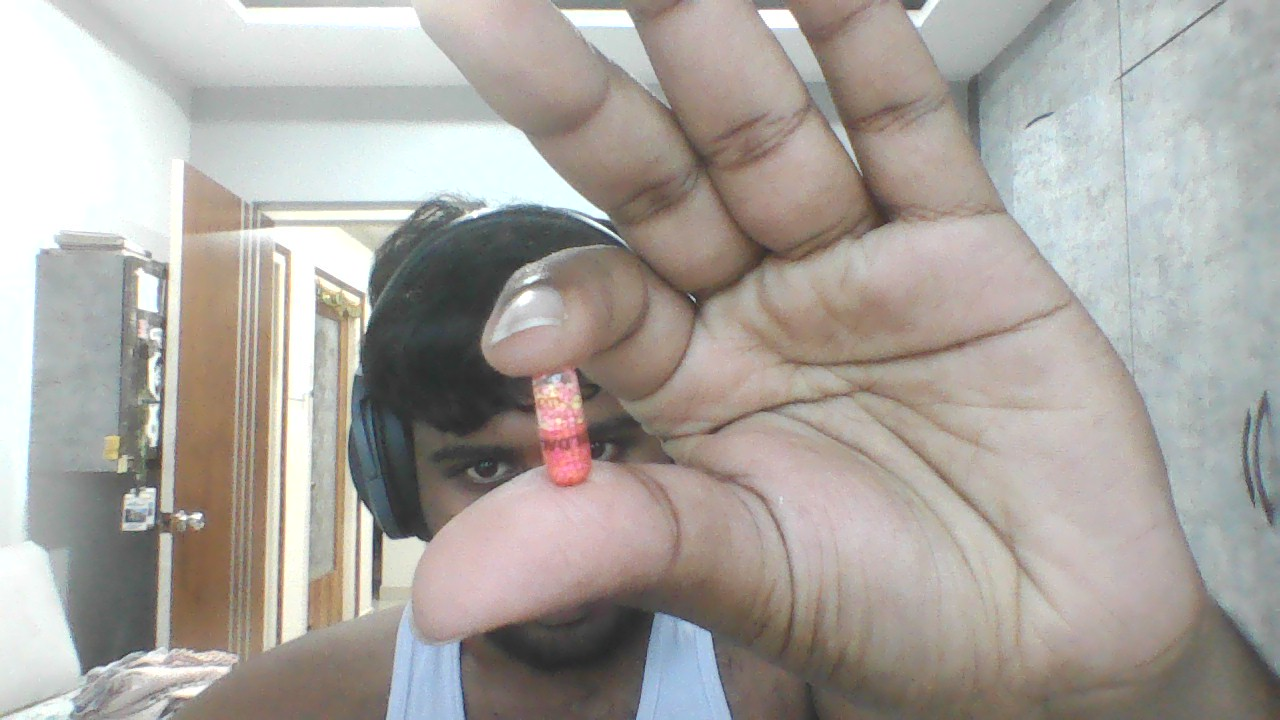Coldact: (520, 368, 608, 488)
